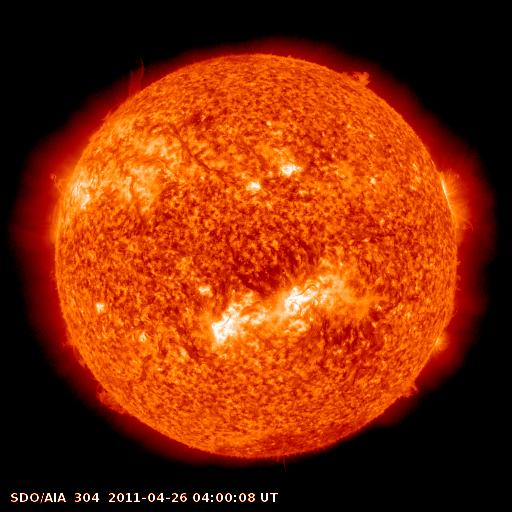prominence: (88, 378, 140, 427), (113, 52, 156, 107), (335, 56, 383, 103), (52, 325, 96, 373), (397, 370, 431, 409)
